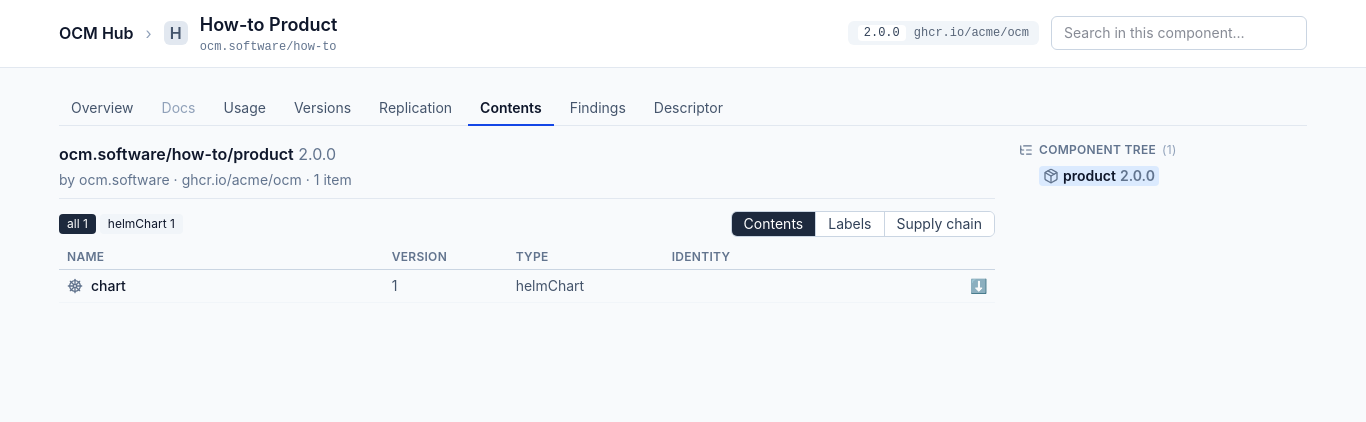
Findings is a page tab right of Contents: an outlook with greyed-out placeholders
Expected: the radio button labelled "Contents" is shown, [732, 212, 815, 236]
Click the tab "Findings". click: (598, 109)
box: [558, 92, 638, 126]
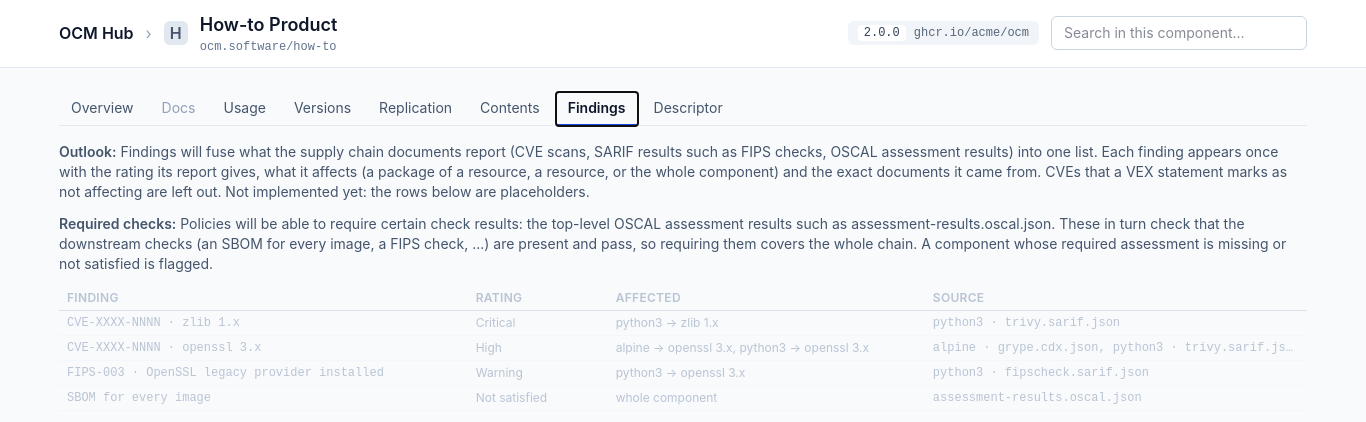
Result: the text "Not implemented yet" is shown at [59, 143, 1287, 200]
Result: the text "Policies will be able to require certain check results" is shown at [59, 215, 1286, 272]
Result: the column headings read "Finding", "Rating", "Affected", "Source", in this order at [67, 290, 119, 305]; [476, 290, 522, 305]; [616, 290, 681, 305]; [933, 290, 984, 305]
